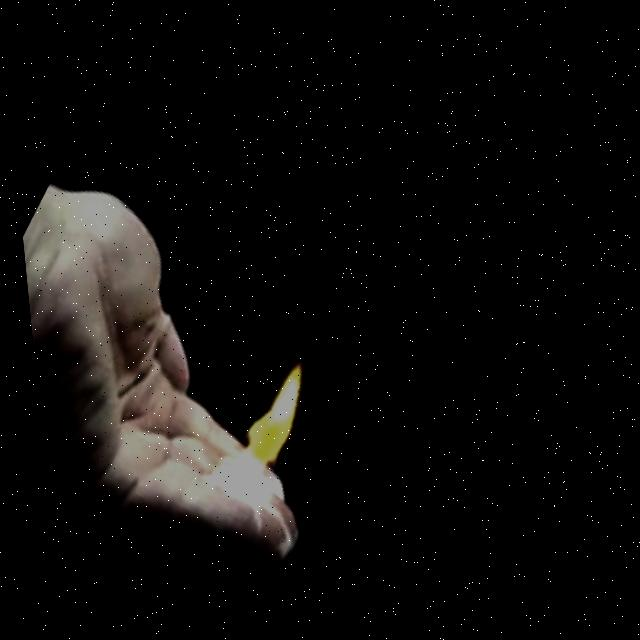Fire: (186, 322, 339, 515)
